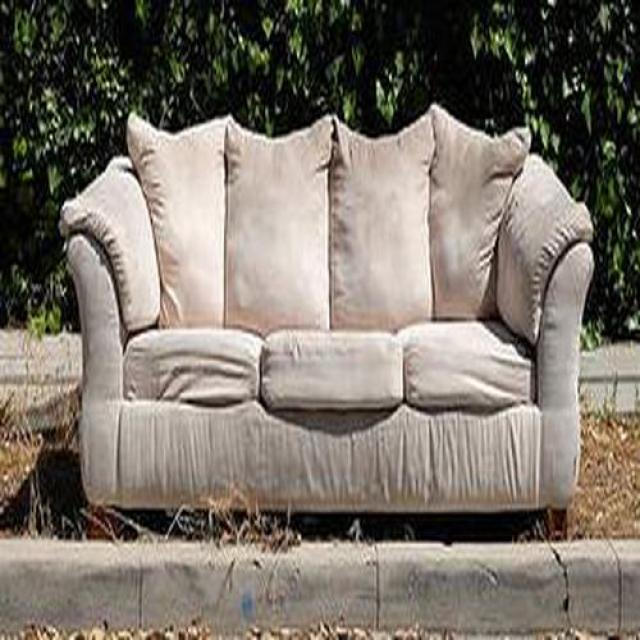sofa: (61, 108, 595, 525)
